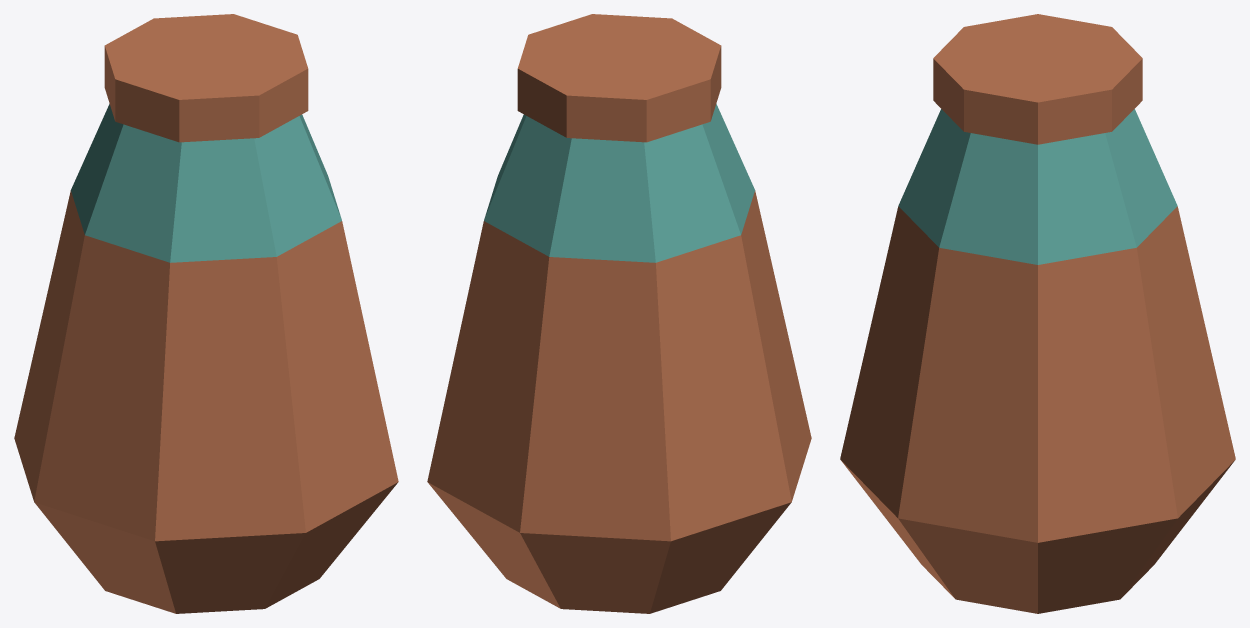
Rendered from pottery.glb.
The picture shows the model from 3 angles, left to right: view 1: azimuth 30°, elevation 25°; view 2: azimuth 150°, elevation 25°; view 3: azimuth 270°, elevation 25°; orthographic projection.
Parts seen in each view (by area): view 1: pottery-col; view 2: pottery-col; view 3: pottery-col.
Boxes of the visible parts, box(x1,y1,x2,y2) form: pottery-col: box(14, 14, 398, 613); pottery-col: box(427, 14, 811, 613); pottery-col: box(840, 14, 1235, 613).
Bounding box in the file's own units: 0.34 × 0.48 × 0.34.
